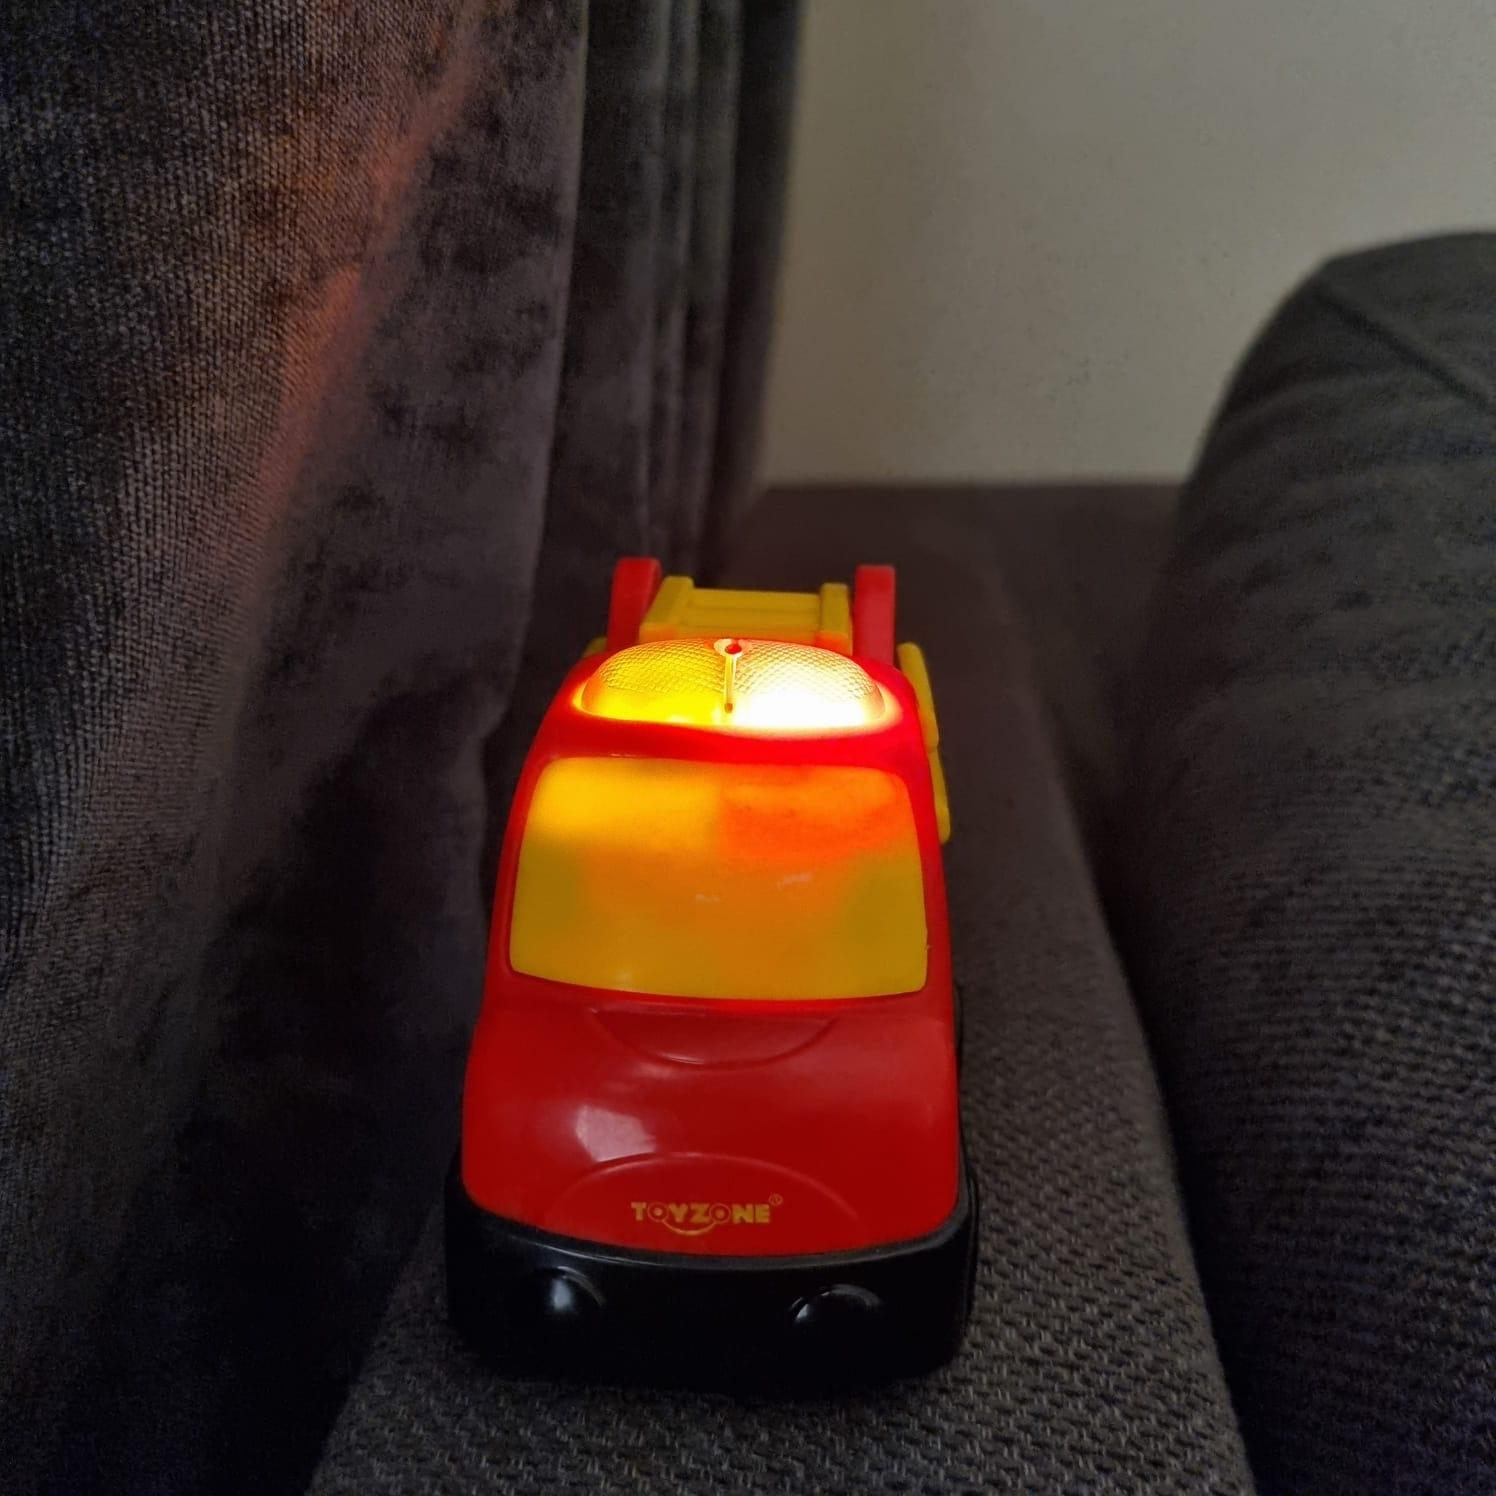firetruck_on: (464, 558, 970, 1411)
